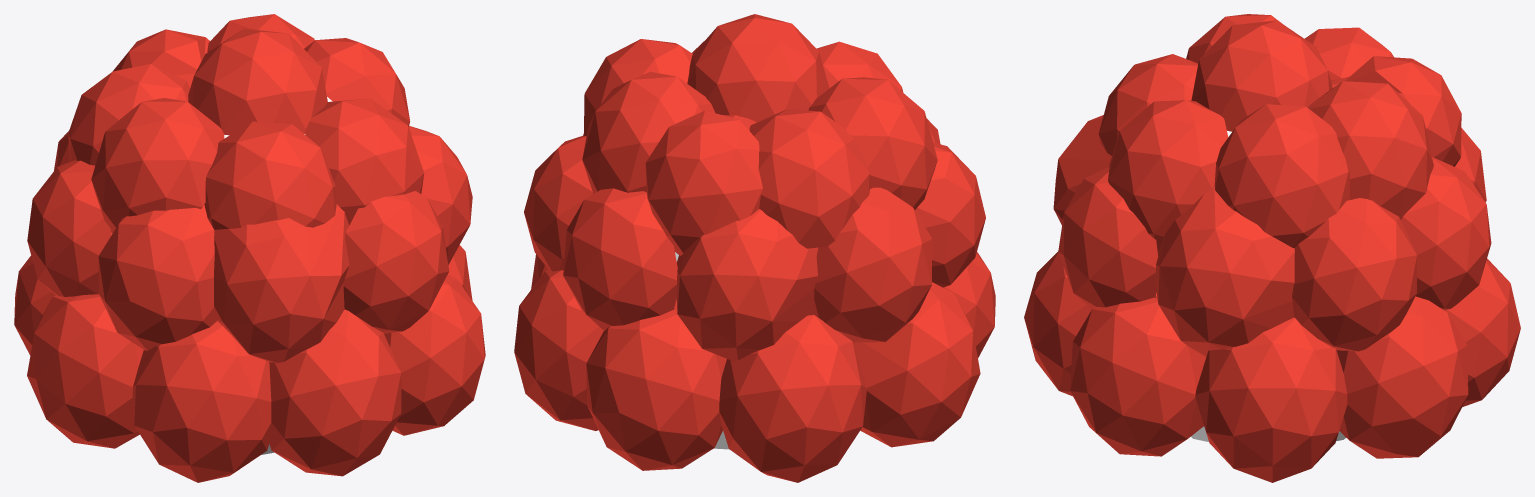
The model's file is raspberry.glb.
3 views of the same model, side by side, from view 1: azimuth 30°, elevation 25°; view 2: azimuth 150°, elevation 25°; view 3: azimuth 270°, elevation 25° (orthographic).
Visible parts, largest first — view 1: Icosphere.001_Icosphere.003; view 2: Icosphere.001_Icosphere.003; view 3: Icosphere.001_Icosphere.003.
Boxes of the visible parts, <box> form: Icosphere.001_Icosphere.003: <box>14,14,485,482</box>; Icosphere.001_Icosphere.003: <box>514,14,995,482</box>; Icosphere.001_Icosphere.003: <box>1024,14,1520,482</box>.
Bounding box in the file's own units: 11.63 × 9.99 × 11.61.
